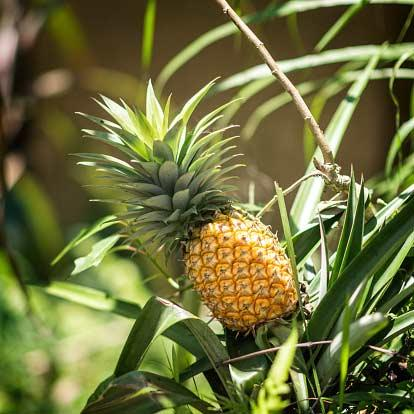pineapple: (74, 74, 314, 344)
